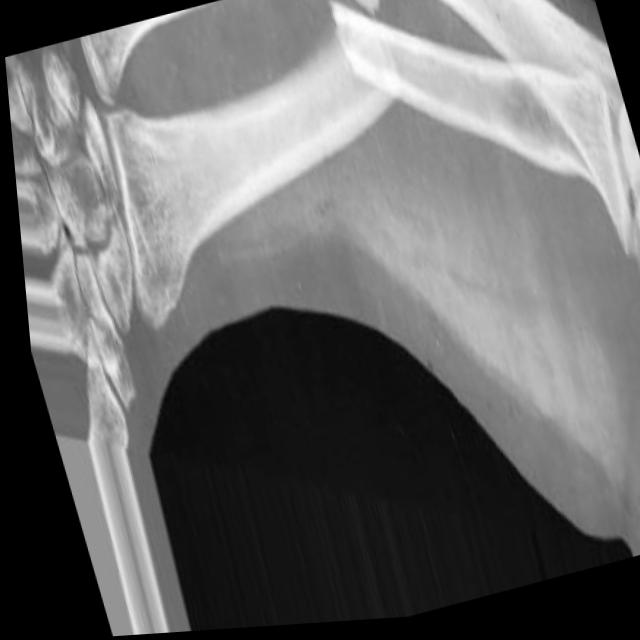fracture: (296, 0, 432, 146)
